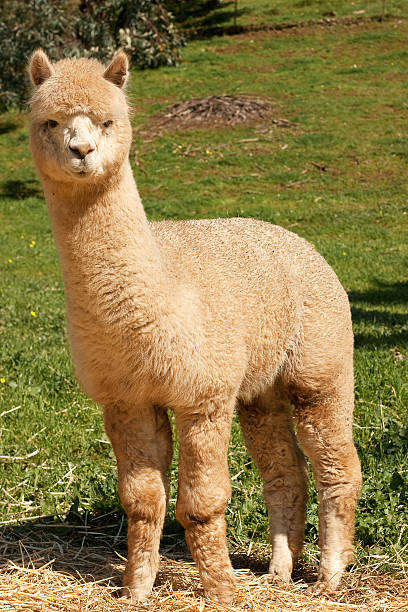alpaca: (28, 47, 362, 601)
